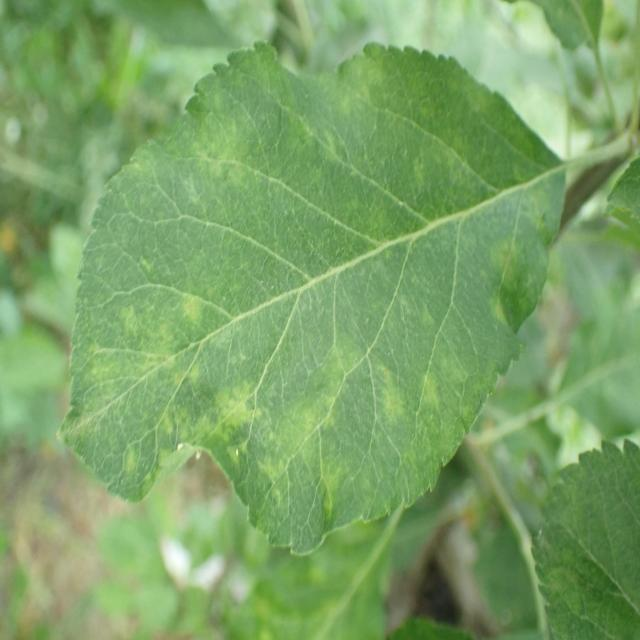scab: (82, 66, 558, 493)
